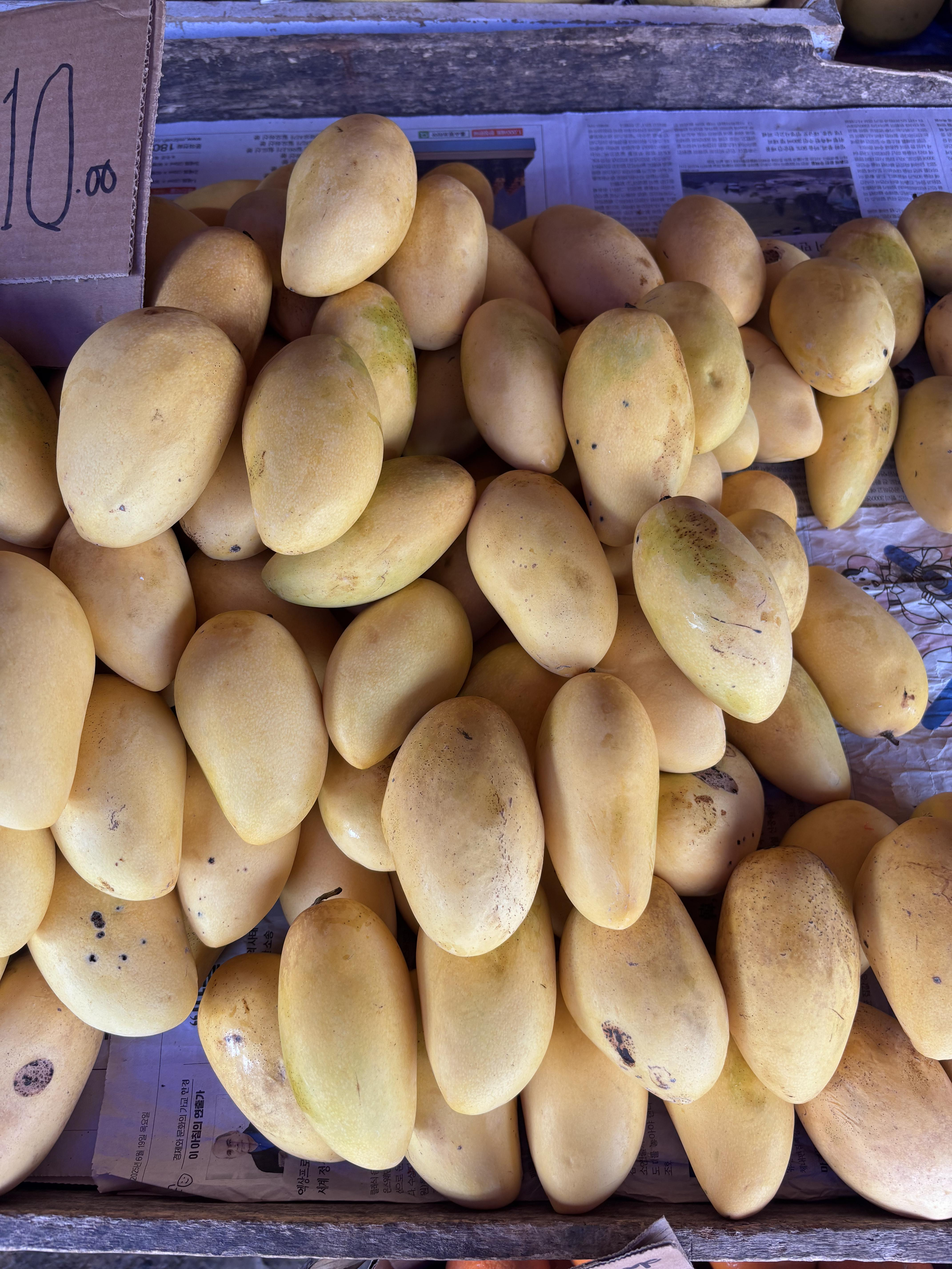mango: (56, 307, 245, 548), (382, 697, 544, 957), (278, 896, 416, 1169), (716, 847, 860, 1103), (632, 496, 792, 724), (175, 610, 328, 845), (535, 673, 659, 930), (466, 471, 617, 677), (243, 334, 383, 555), (281, 114, 417, 297)
occluded: (560, 877, 729, 1104), (796, 1004, 952, 1219), (263, 455, 476, 608), (416, 889, 556, 1115), (28, 853, 198, 1036), (563, 309, 694, 546), (197, 953, 342, 1162), (52, 674, 186, 900), (521, 988, 648, 1213), (323, 580, 472, 768), (0, 553, 95, 830), (0, 950, 103, 1194), (50, 520, 196, 691), (177, 750, 300, 948), (407, 1000, 522, 1209), (853, 817, 952, 1059), (667, 1036, 795, 1219), (792, 565, 928, 737), (596, 595, 726, 773), (186, 550, 342, 688), (636, 281, 750, 453), (375, 175, 487, 350), (312, 281, 417, 459), (461, 298, 567, 474), (725, 660, 851, 805), (147, 227, 272, 367), (770, 258, 895, 397), (655, 745, 764, 896), (530, 205, 664, 324), (280, 804, 397, 937), (821, 217, 924, 366), (805, 367, 899, 529), (224, 189, 322, 341), (656, 195, 766, 326), (0, 339, 67, 547), (459, 641, 564, 769), (780, 800, 897, 905), (181, 419, 265, 560), (740, 327, 823, 462), (318, 745, 396, 872), (402, 341, 483, 462), (728, 509, 808, 630), (894, 376, 952, 532), (423, 529, 499, 643), (0, 826, 55, 958), (483, 225, 554, 324), (748, 238, 810, 342), (898, 191, 952, 296), (145, 196, 206, 283), (720, 469, 798, 532), (426, 162, 494, 224), (713, 403, 759, 472), (175, 179, 258, 211), (679, 451, 723, 510), (924, 292, 952, 376), (603, 542, 635, 595), (502, 215, 537, 257), (912, 792, 952, 822), (257, 162, 295, 193), (560, 324, 585, 357), (192, 207, 226, 226), (929, 434, 930, 434)
